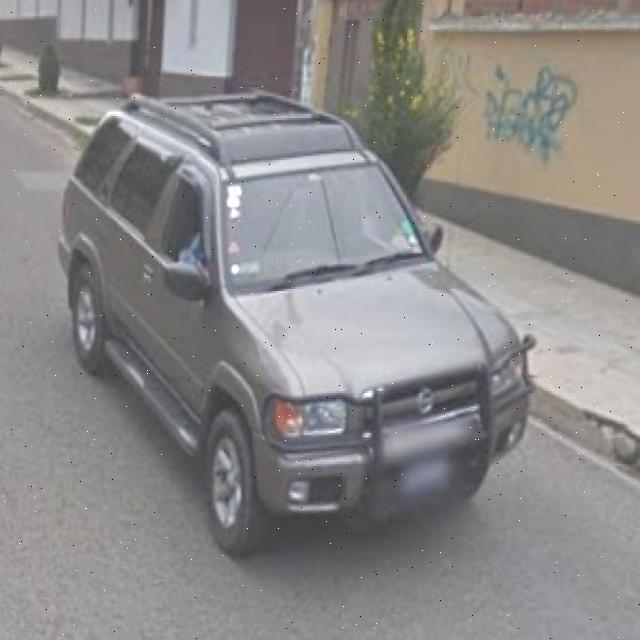car: (57, 88, 531, 552)
